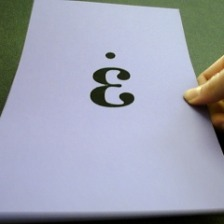violet3: (84, 46, 138, 113)
